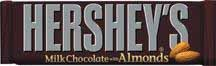grozi_10: (0, 0, 215, 65)
